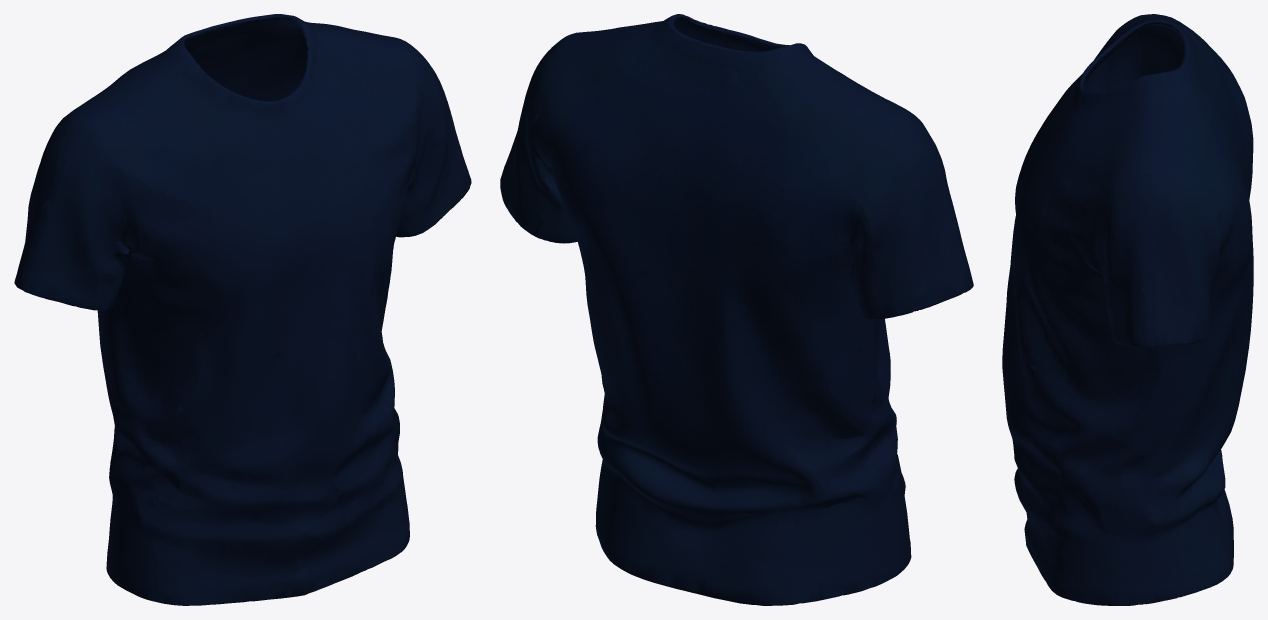
Rendered from shirt_bakedbbb.glb.
The picture shows the model from 3 angles, left to right: view 1: azimuth 30°, elevation 25°; view 2: azimuth 150°, elevation 25°; view 3: azimuth 270°, elevation 25°; orthographic projection. The views are drawn at different scales.
Parts seen in each view (by area): view 1: textured_mesh; view 2: textured_mesh; view 3: textured_mesh.
Part boxes in pixels (left/top/right/bottom): textured_mesh: left=14, top=14, right=471, bottom=605; textured_mesh: left=500, top=14, right=973, bottom=605; textured_mesh: left=1002, top=14, right=1253, bottom=605.
Size of the model in its own units: 1.83 by 1.99 by 0.9047.
Materials: 1 (1 with a texture image).
